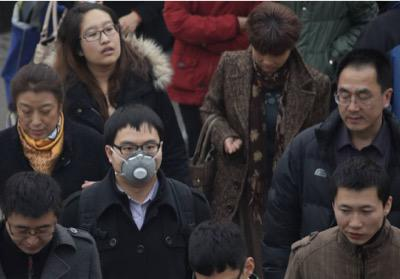with_mask: (112, 136, 163, 186)
without_mask: (334, 198, 382, 245), (336, 82, 382, 131), (80, 17, 122, 68), (4, 217, 58, 256), (17, 98, 60, 139), (252, 47, 287, 73)
